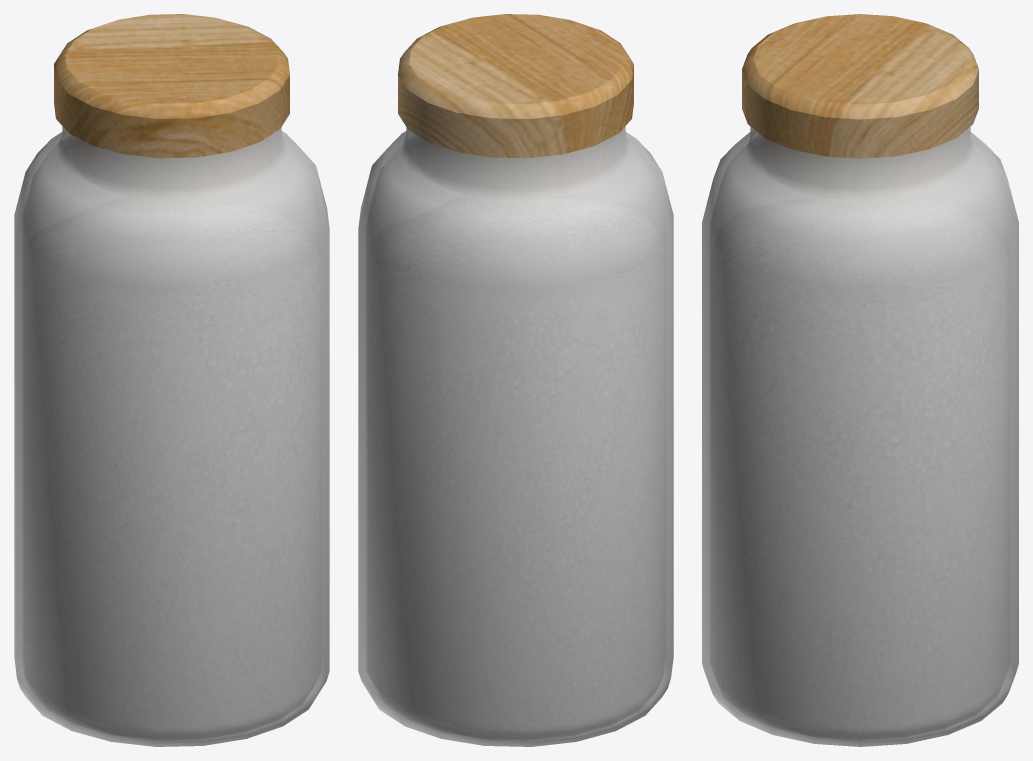
Rendered from sweethome3d-scopia-glass-jar.glb.
3 views of the same model, side by side, from view 1: azimuth 30°, elevation 25°; view 2: azimuth 150°, elevation 25°; view 3: azimuth 270°, elevation 25° (orthographic).
Visible parts, largest first — view 1: GlassJar2.002, WoodenTop.002; view 2: GlassJar2.002, WoodenTop.002; view 3: GlassJar2.002, WoodenTop.002.
Boxes of the visible parts, bbox=[...] form: GlassJar2.002: bbox=[14, 126, 329, 746]; WoodenTop.002: bbox=[54, 14, 289, 158]; GlassJar2.002: bbox=[358, 126, 673, 746]; WoodenTop.002: bbox=[398, 14, 633, 158]; GlassJar2.002: bbox=[702, 126, 1018, 746]; WoodenTop.002: bbox=[742, 14, 978, 158].
Bounding box in the file's own units: 9.89 × 21.79 × 9.89.
3 materials, 2 textured.
